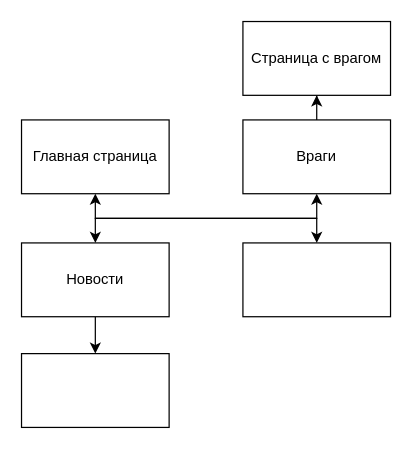
The diagram is 412 pixels wide and 449 high, and some of its shapes have lost their labels. The box of each missing label's shape, as (x1, y1, x2, y2) in pixels:
Закулисье: (242, 242, 391, 317)
Страница с новостью: (20, 352, 169, 427)
